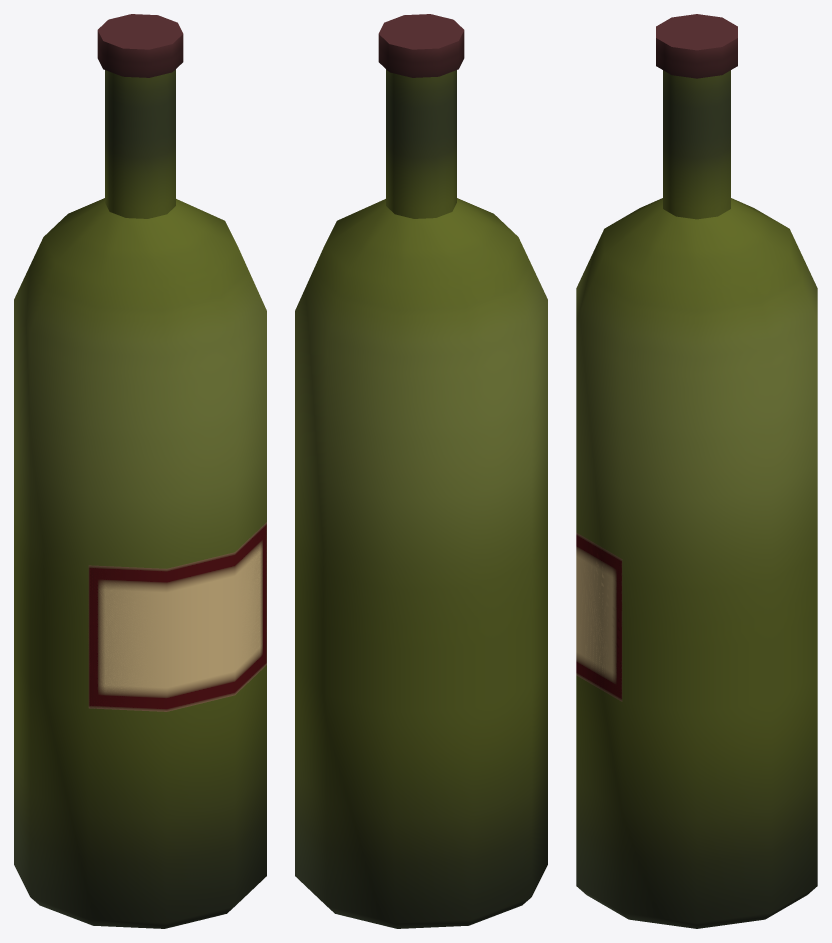
The model's file is Wine_Bottle.fbx.
3 renders of one model, left to right at view 1: azimuth 30°, elevation 25°; view 2: azimuth 150°, elevation 25°; view 3: azimuth 270°, elevation 25°, orthographic.
Visible parts, largest first — view 1: Wine_Bottle; view 2: Wine_Bottle; view 3: Wine_Bottle.
Part boxes in pixels (x1=…): Wine_Bottle: x1=14, y1=14, x2=266, y2=928; Wine_Bottle: x1=295, y1=14, x2=547, y2=928; Wine_Bottle: x1=576, y1=14, x2=817, y2=928.
Bounding box in the file's own units: 81.35 × 300 × 77.37.
